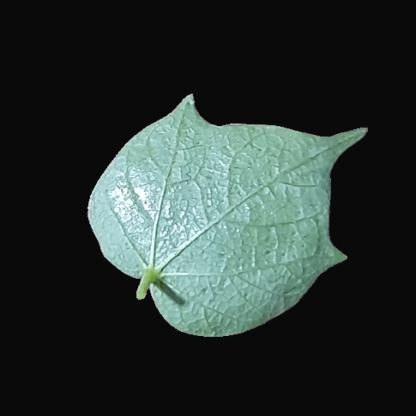healthy: (166, 139, 288, 297), (105, 160, 161, 258)
